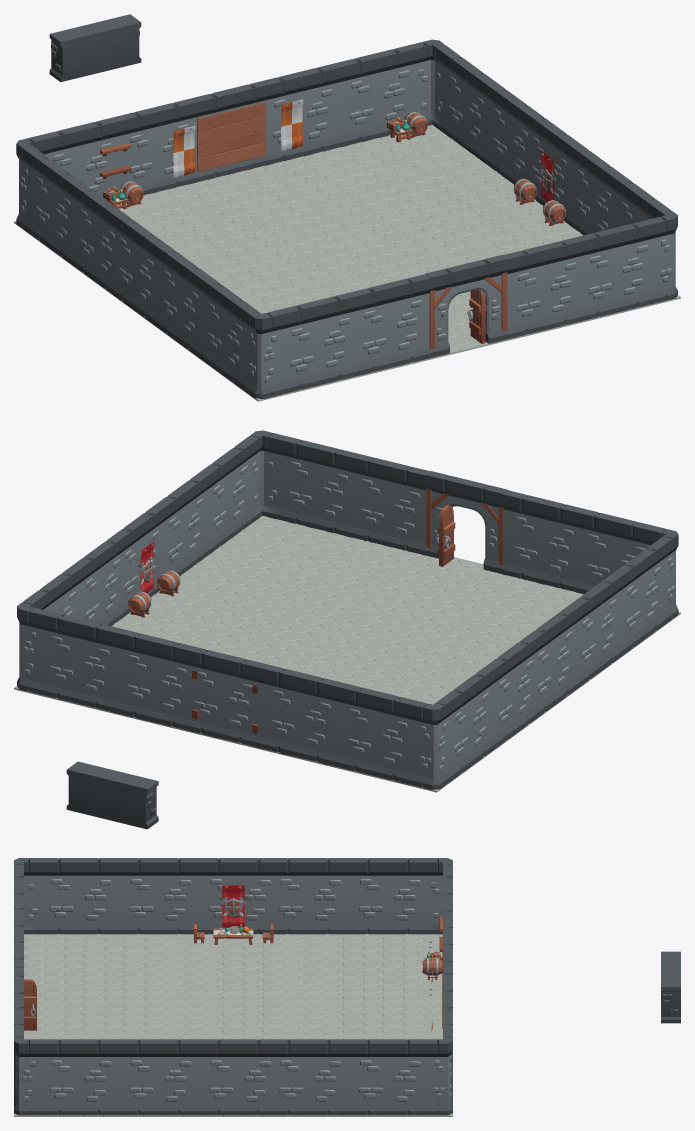
Rendered from dungeonroom_heapsort.glb.
3 renders of one model, top to bottom at view 1: azimuth 30°, elevation 25°; view 2: azimuth 150°, elevation 25°; view 3: azimuth 270°, elevation 25°, orthographic. The views are drawn at different scales.
Visible parts, largest first — view 1: wall.008, wall.007, wall.006, wall.009, wall.001, wall.004, wall.003, wall_doorway_scaffold, wall.017, wall.014, wall.015, wall.010 (+73 smaller); view 2: wall.003, wall.001, wall.002, wall.004, wall.007, wall.009, wall.006, wall.005, wall.008, wall_doorway_scaffold, wall.015, wall.014 (+68 smaller); view 3: wall.013, wall.018, wall.031, wall.010, wall.015, wall.014, wall.011, wall.016, wall.012, wall.017, wall_corner.001, wall_corner.003 (+67 smaller).
Boxes of the visible parts, x1,y1,x2,y2 form: wall.008: (276, 292, 358, 394); wall.007: (503, 237, 584, 338); wall.006: (575, 219, 656, 321); wall.009: (350, 274, 430, 376); wall.001: (336, 44, 417, 146); wall.004: (259, 63, 341, 165); wall.003: (115, 98, 196, 195); wall_doorway_scaffold: (425, 254, 507, 357); wall.017: (110, 210, 164, 325); wall.014: (199, 275, 253, 390); wall.015: (27, 149, 80, 264); wall.010: (440, 48, 494, 162); wall.003: (259, 664, 341, 766); wall.001: (38, 610, 120, 712); wall.002: (336, 682, 418, 785); wall.004: (115, 628, 196, 731); wall.007: (348, 452, 429, 555); wall.009: (502, 490, 582, 592); wall.006: (277, 435, 357, 536); wall.005: (182, 647, 264, 747); wall.008: (575, 508, 656, 593); wall_doorway_scaffold: (425, 471, 507, 573); wall.015: (442, 666, 495, 780); wall.014: (613, 540, 667, 655); wall.013: (118, 1039, 198, 1115); wall.018: (118, 858, 198, 934); wall.031: (39, 1039, 118, 1115); wall.010: (348, 1039, 427, 1115); wall.015: (348, 858, 427, 934); wall.014: (39, 858, 118, 934); wall.011: (268, 1039, 347, 1115); wall.016: (268, 858, 347, 934); wall.012: (198, 1039, 278, 1115); wall.017: (198, 858, 277, 934); wall_corner.001: (428, 1033, 452, 1115); wall_corner.003: (14, 1033, 38, 1115).
Bounding box in the file's own units: 44.03 × 8.15 × 66.87.
Materials: 13 (12 with a texture image).
